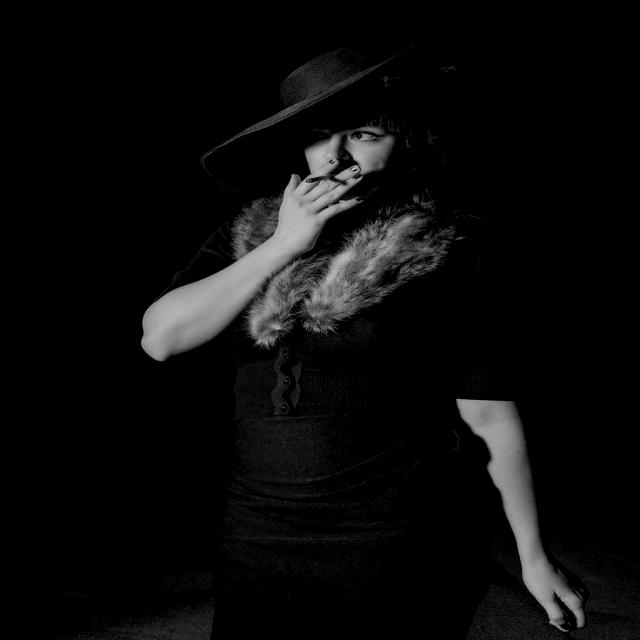Smooking: (294, 169, 333, 190)
